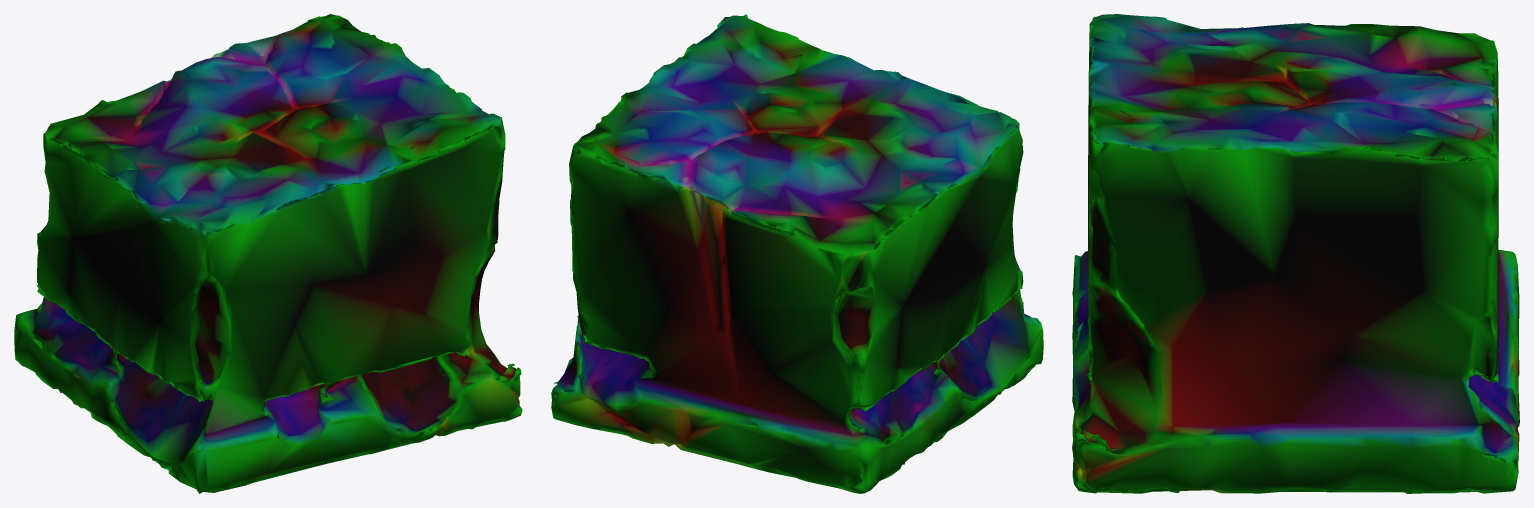
File: SM_Ruin_A_L1.glb
The picture shows the model from 3 angles, left to right: view 1: azimuth 30°, elevation 25°; view 2: azimuth 150°, elevation 25°; view 3: azimuth 270°, elevation 25°; orthographic projection. The views are drawn at different scales.
Visible parts, largest first — view 1: SM_Ruin_A; view 2: SM_Ruin_A; view 3: SM_Ruin_A.
Part boxes in pixels (<box>): SM_Ruin_A: <box>14,14,522,493</box>; SM_Ruin_A: <box>551,14,1043,493</box>; SM_Ruin_A: <box>1072,14,1519,493</box>.
Size of the model in its own units: 1.93 by 1.65 by 1.9.
